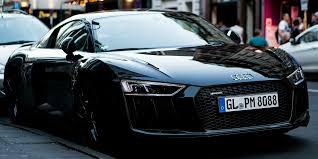0: (263, 95, 268, 106)
8: (272, 94, 277, 106), (267, 95, 272, 106), (257, 96, 262, 106)
G: (226, 99, 233, 110)
L: (232, 98, 238, 109)
M: (249, 97, 256, 108)
P: (243, 97, 249, 108)
